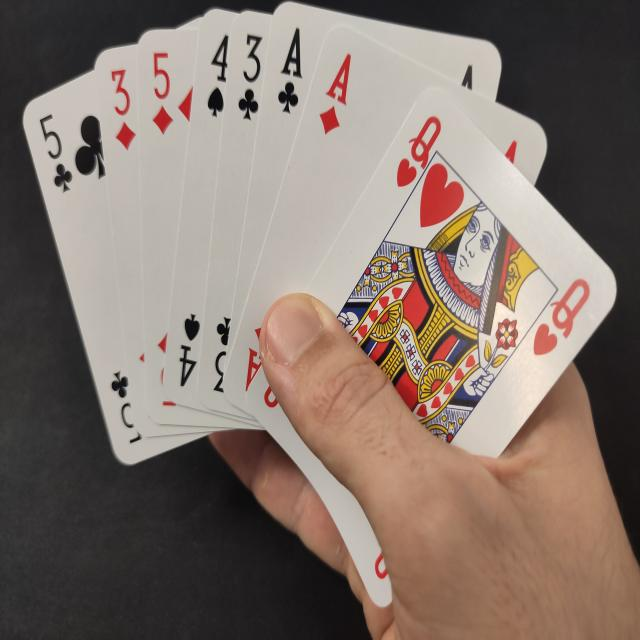3c: (238, 31, 267, 123)
3d: (106, 65, 141, 158)
4s: (202, 28, 236, 120), (174, 307, 203, 394)
5c: (34, 111, 76, 198)
5d: (150, 48, 177, 141)
Ac: (273, 21, 308, 121)
Ad: (316, 45, 358, 140)
Qh: (527, 274, 595, 361), (389, 111, 443, 196)
